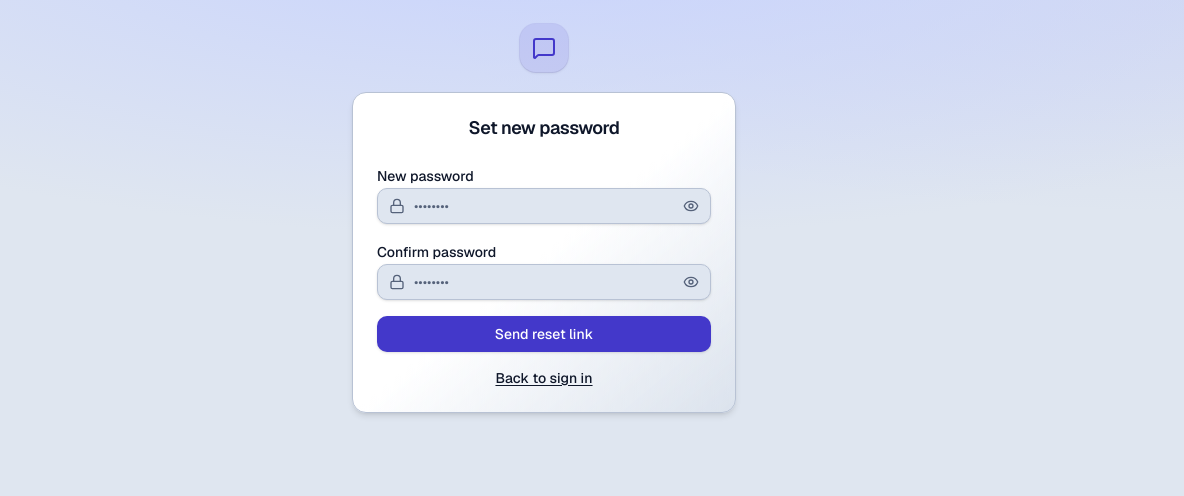
ResetPasswordPage — inner content › shows error when password is too short
Type "short" into the password field labelled "New password".
click(544, 206); type("short")  # box [377,188,711,224]
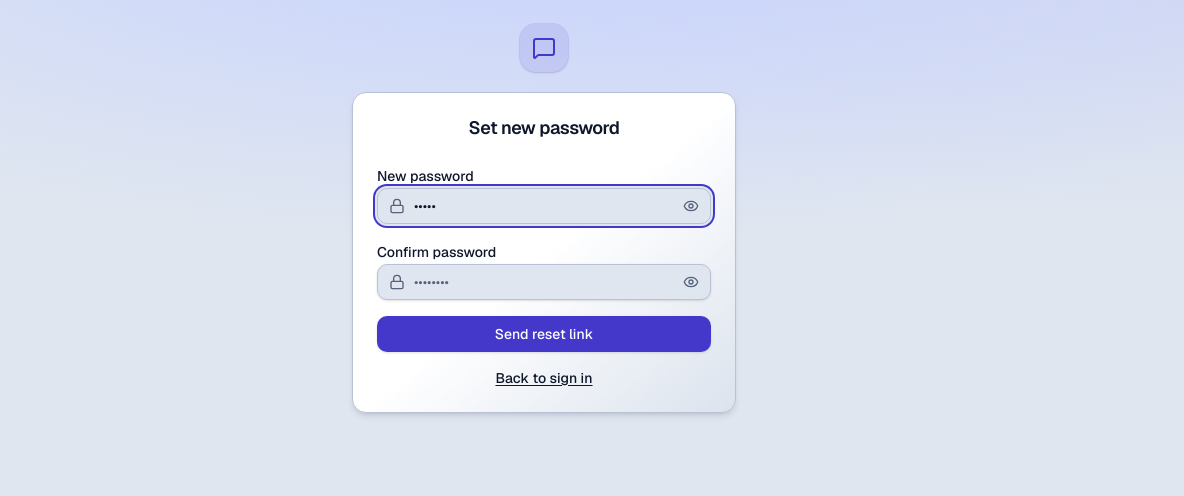
Type "short" into the password field labelled "Confirm password".
click(544, 282); type("short")  # box [377,264,711,300]
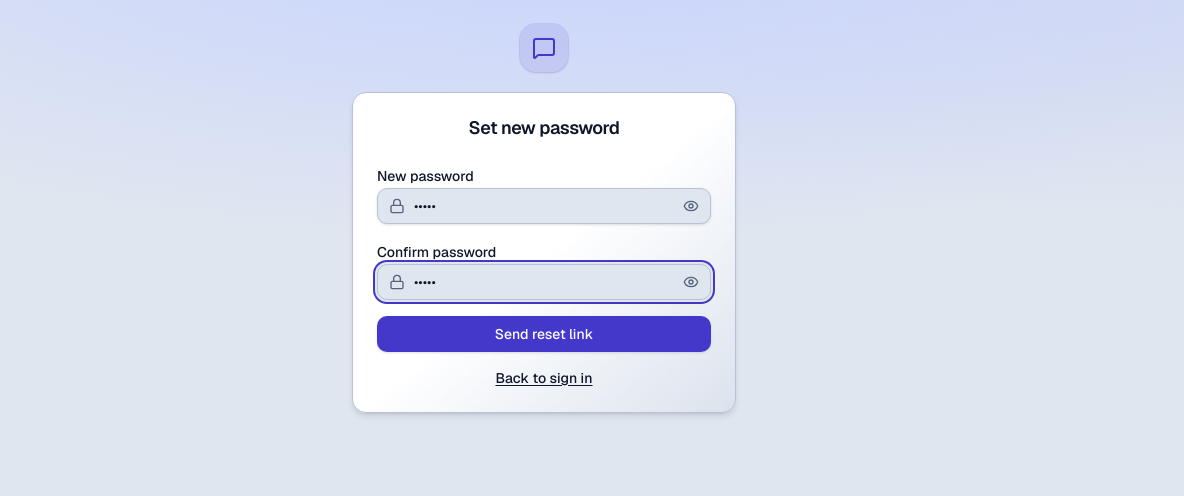
Click the button "Send reset link".
click(544, 334)  # box [377,316,711,352]
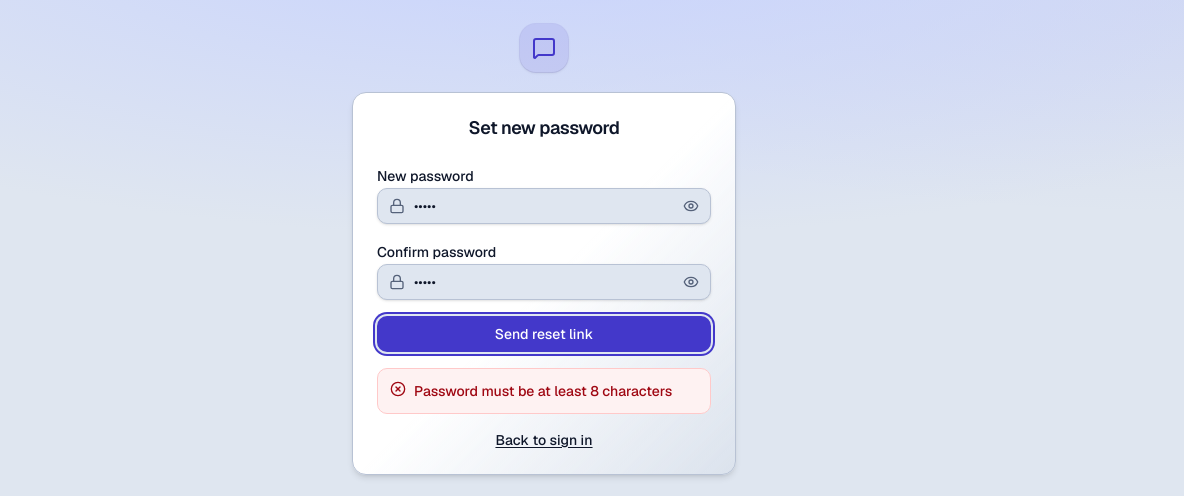
Now the text "Password must be at least 8 characters" is shown, box [414,382,672,400]
